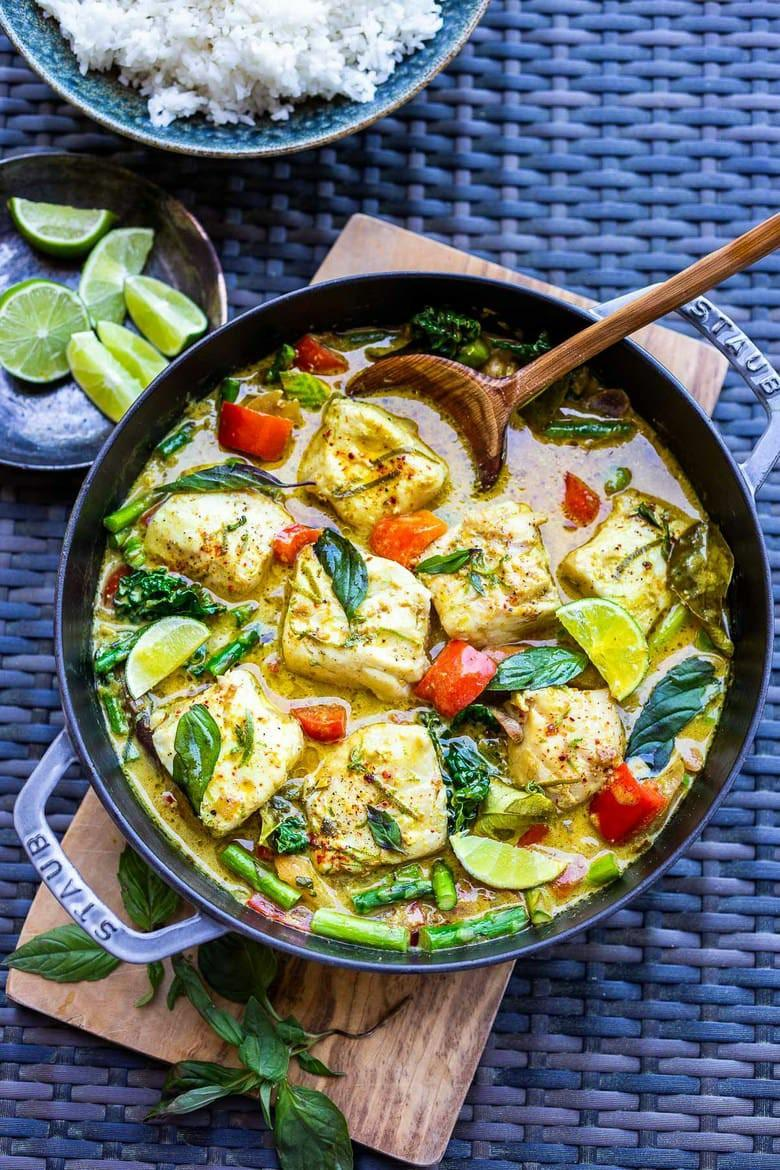FishCurry: (88, 317, 734, 948)
